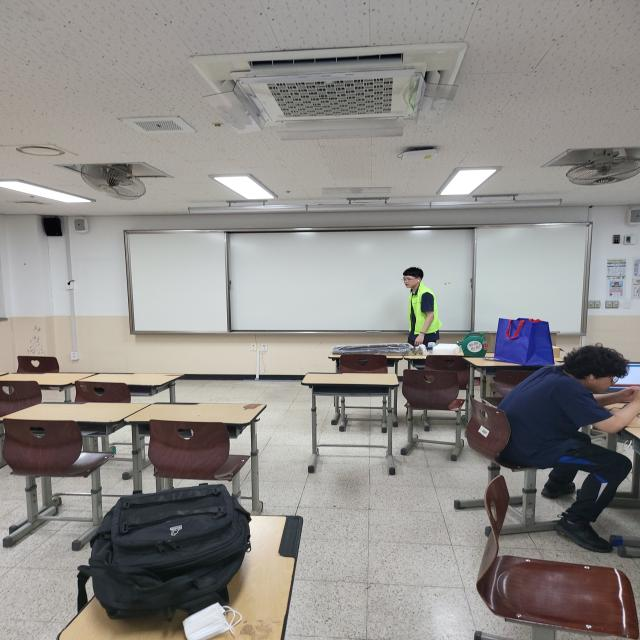weston_spy: (402, 291, 446, 345)
